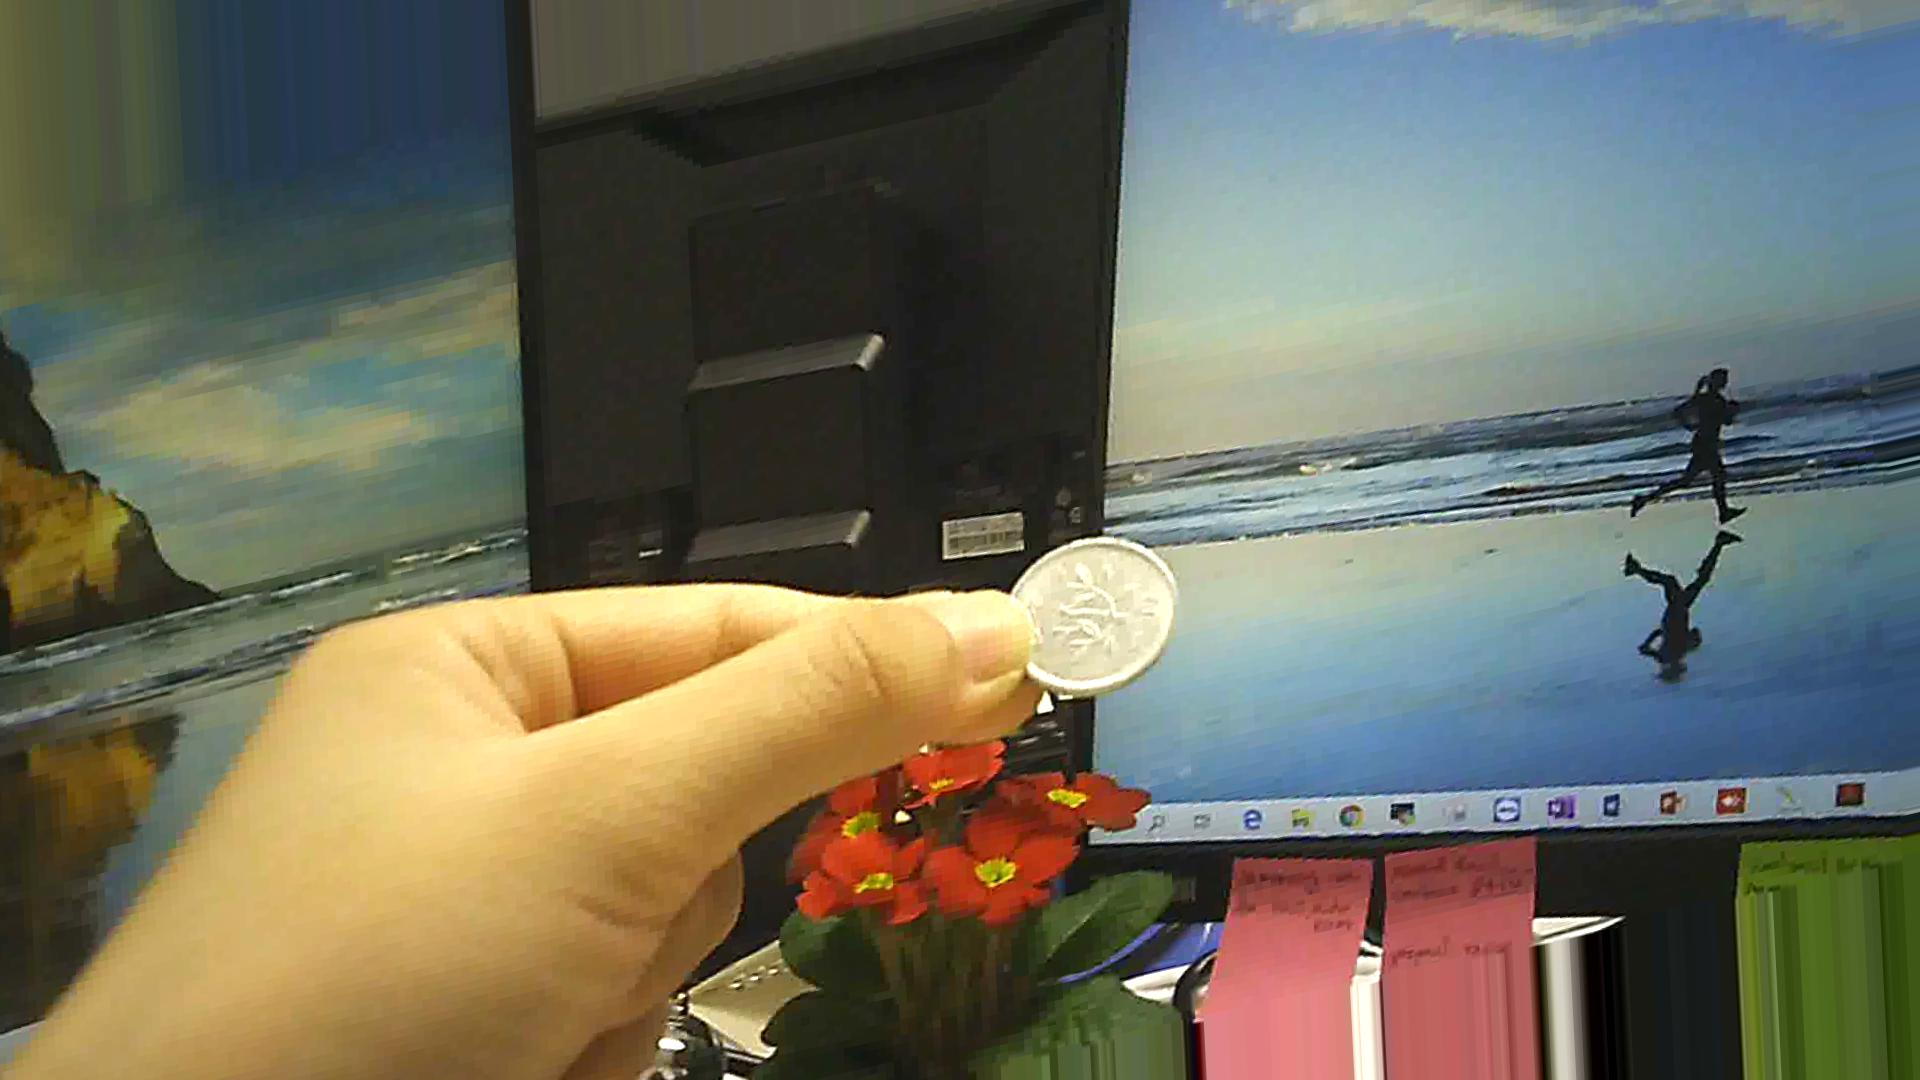1 Yen: (989, 525, 1193, 717)
